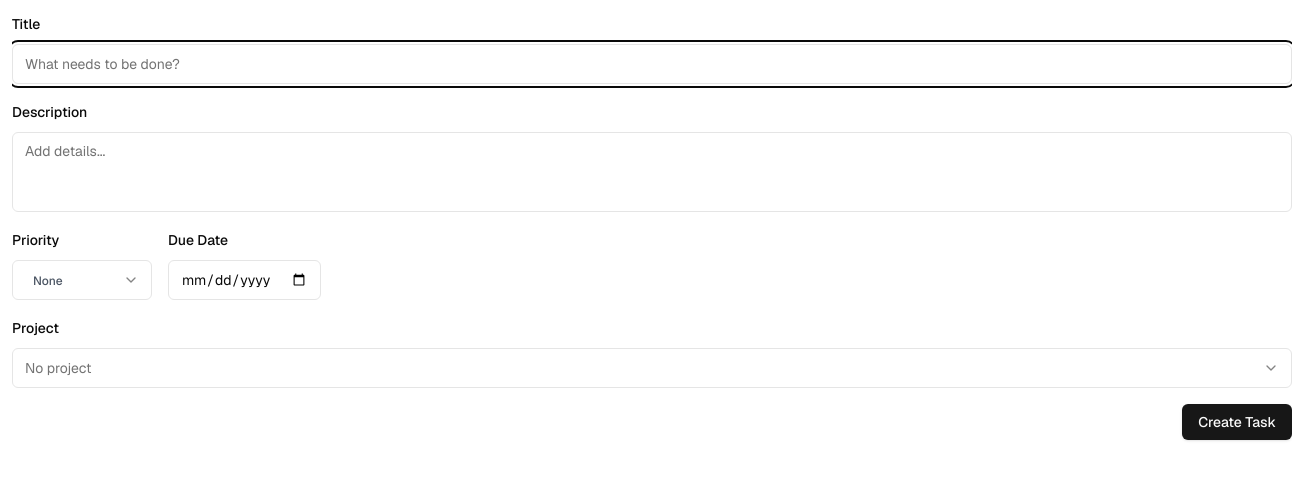
Test: TaskCreateForm › shows error when submitting empty title
The width and height of the screenshot is (1304, 494).
Click the button "Create Task" at x=1237, y=422, box [1182,404,1292,440]
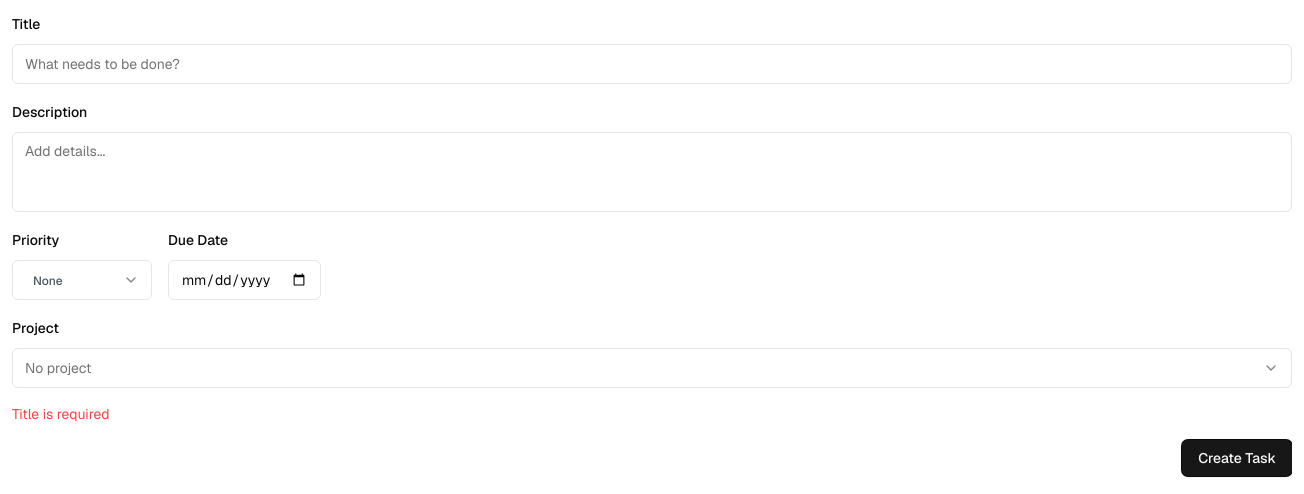
Expected: the text "Title is required" is shown, [12,405,110,423]
